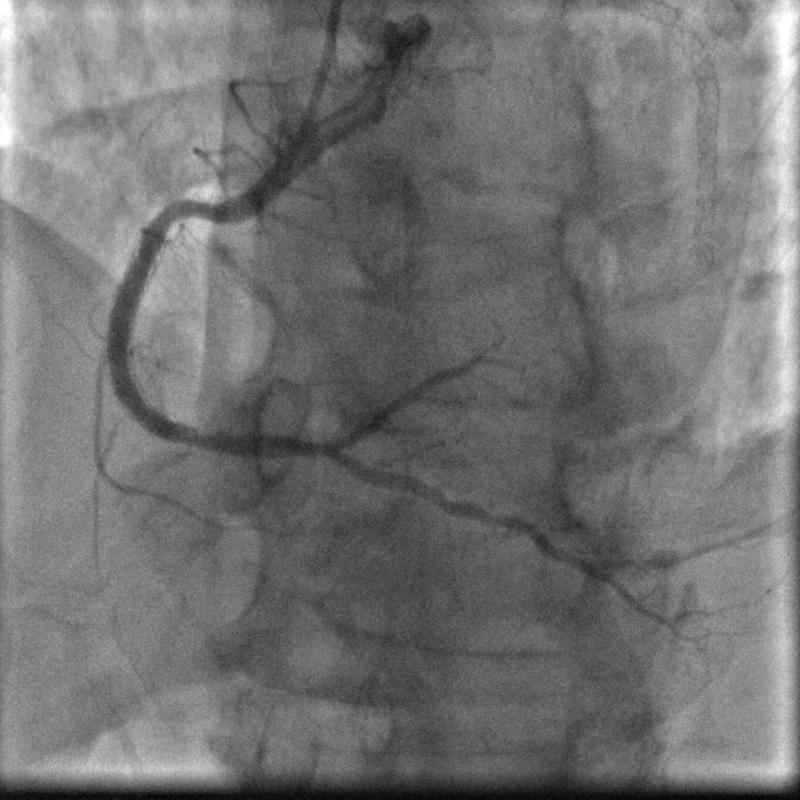Stenosis: (173, 191, 221, 232)
